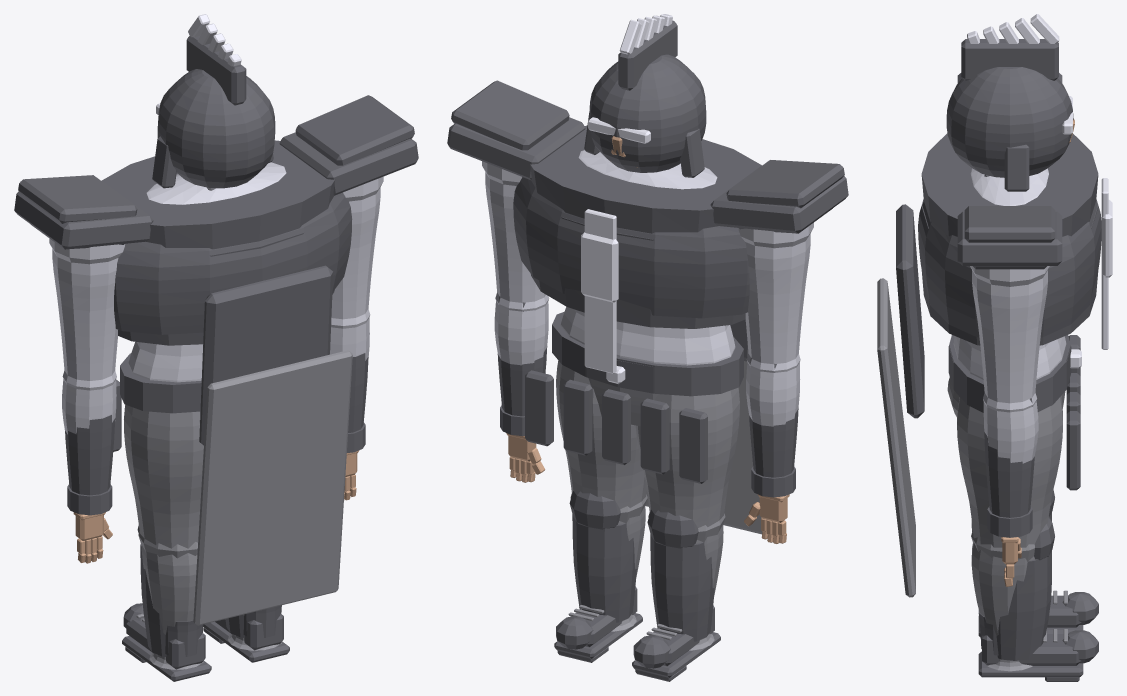
Rendered from elite.glb.
3 views of the same model, side by side, from view 1: azimuth 30°, elevation 25°; view 2: azimuth 150°, elevation 25°; view 3: azimuth 270°, elevation 25° (orthographic).
Visible parts, largest first — view 1: Plate, Torso, Helm, Arm_l, Thigh_l, Arm_r, Lames_r, Shin_l, Lames_l, Forearm_l, Boot_l, Vambrace_l (+5 smaller); view 2: Torso, Plate, Helm, Tassets, Arm_l, Arm_r, Thigh_l, Greave_l, Greave_r, Lames_r, Thigh_r, Forearm_l (+11 smaller); view 3: Plate, Helm, Torso, Arm_r, Thigh_r, Greave_r, Boot_r, Forearm_r, Lames_r, Shin_r, Vambrace_r, Tassets (+2 smaller).
Part boxes in pixels (x1,y1,x2,y2): Plate: (101, 140, 352, 625); Torso: (114, 162, 352, 413); Helm: (152, 14, 275, 188); Arm_l: (14, 181, 153, 380); Thigh_l: (124, 404, 203, 548); Arm_r: (279, 132, 418, 319); Lames_r: (295, 95, 414, 165); Shin_l: (138, 531, 203, 669); Lames_l: (18, 175, 137, 248); Forearm_l: (62, 370, 116, 515); Boot_l: (122, 603, 211, 681); Vambrace_l: (65, 415, 115, 495); Torso: (513, 150, 749, 396); Plate: (530, 125, 762, 534); Helm: (584, 14, 706, 177); Tassets: (525, 360, 707, 483); Arm_l: (710, 166, 848, 364); Arm_r: (447, 117, 585, 302); Thigh_l: (635, 387, 739, 527); Greave_l: (647, 509, 714, 641); Greave_r: (569, 490, 636, 622); Lames_r: (451, 80, 569, 150); Thigh_r: (556, 360, 646, 508); Forearm_l: (746, 354, 800, 497); Plate: (877, 133, 1112, 597); Helm: (946, 14, 1073, 191); Torso: (918, 168, 1108, 412); Arm_r: (957, 211, 1062, 403); Thigh_r: (957, 396, 1062, 547); Greave_r: (996, 516, 1054, 660); Boot_r: (978, 610, 1098, 681); Forearm_r: (983, 393, 1038, 537); Lames_r: (964, 206, 1055, 269); Shin_r: (971, 530, 1034, 671); Vambrace_r: (984, 398, 1034, 517); Tassets: (948, 335, 1080, 490).
Bounding box in the file's own units: 1.18 × 2.02 × 0.6752.
